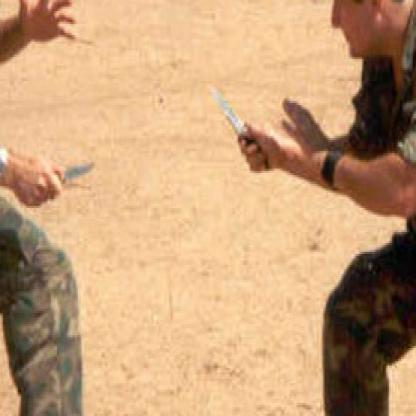knife: (194, 59, 268, 180), (10, 149, 100, 208)
